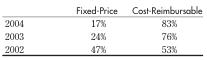table: (3, 4, 201, 54)
table column: (123, 4, 201, 54), (49, 4, 123, 54), (3, 4, 49, 54)
table column header: (3, 4, 201, 16)
table row: (3, 28, 201, 41), (3, 41, 201, 54), (3, 4, 201, 16), (3, 16, 201, 28)
